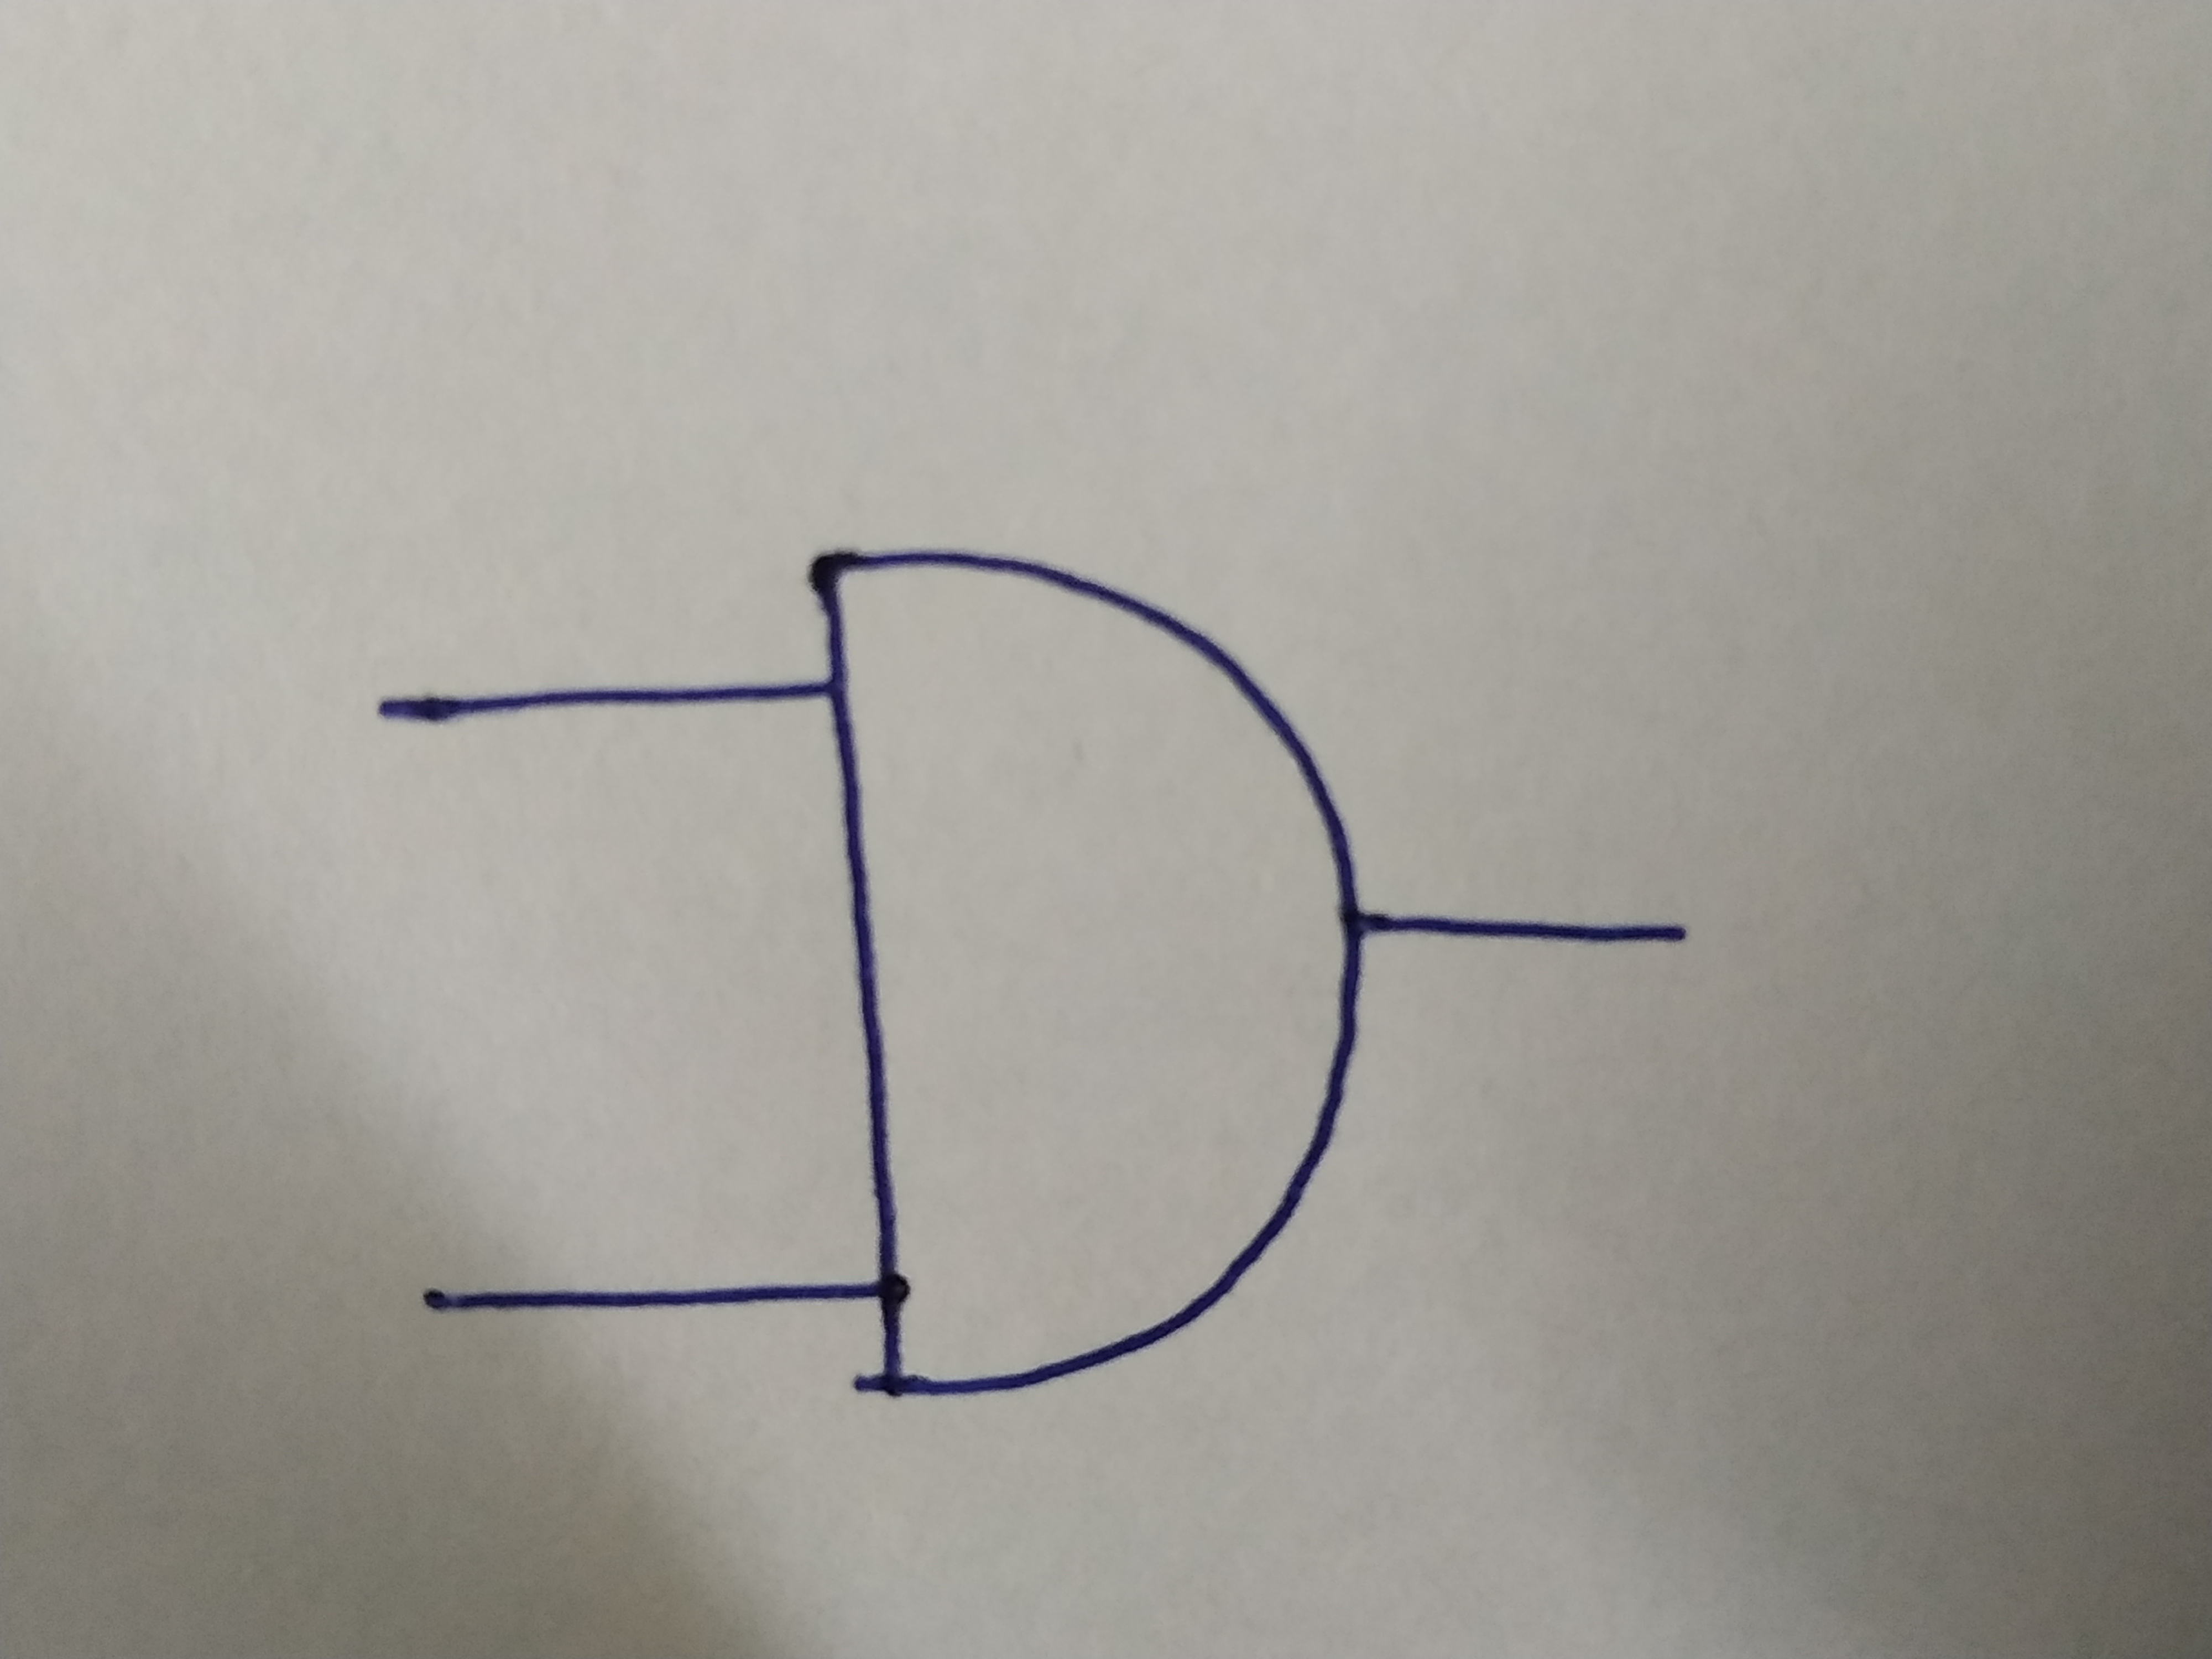and: (806, 549, 1345, 1389)
